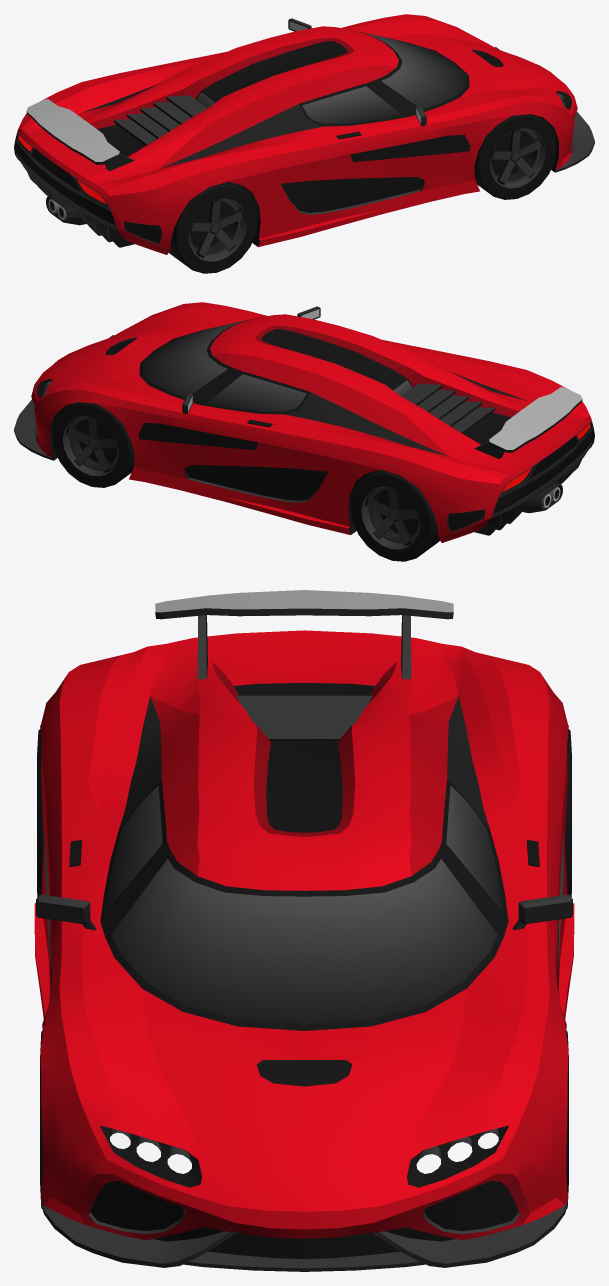
File: Car_097.glb
3 views of the same model, one above another, from view 1: azimuth 30°, elevation 25°; view 2: azimuth 150°, elevation 25°; view 3: azimuth 270°, elevation 25° (orthographic). The views are drawn at different scales.
Visible parts, largest first — view 1: Car_097, wheel_3_Car_097_Wheel_2R, wheel_1_Car_097_Wheel_1R; view 2: Car_097, wheel_2_Car_097_Wheel_2L, wheel_0_Car_097_Wheel_1L; view 3: Car_097, wheel_2_Car_097_Wheel_2L, wheel_3_Car_097_Wheel_2R.
Boxes of the visible parts, x1=… form: Car_097: x1=14, y1=14, x2=594, y2=254; wheel_3_Car_097_Wheel_2R: x1=169, y1=181, x2=258, y2=273; wheel_1_Car_097_Wheel_1R: x1=474, y1=114, x2=556, y2=199; Car_097: x1=14, y1=302, x2=594, y2=542; wheel_2_Car_097_Wheel_2L: x1=350, y1=469, x2=439, y2=561; wheel_0_Car_097_Wheel_1L: x1=52, y1=402, x2=134, y2=487; Car_097: x1=34, y1=590, x2=574, y2=1271; wheel_2_Car_097_Wheel_2L: x1=565, y1=729, x2=571, y2=896; wheel_3_Car_097_Wheel_2R: x1=37, y1=729, x2=43, y2=896.
Size of the model in its own units: 4.81 by 1.21 by 2.2.
3 materials, 3 textured.
